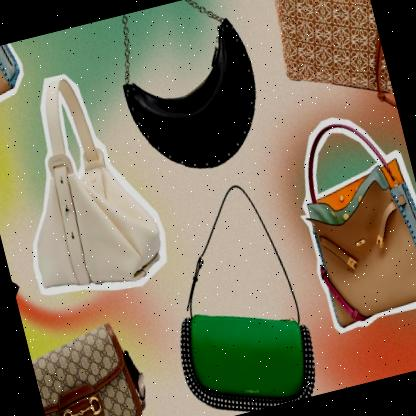bag: (139, 169, 330, 416), (0, 56, 174, 311), (97, 0, 276, 189), (278, 103, 416, 341)
